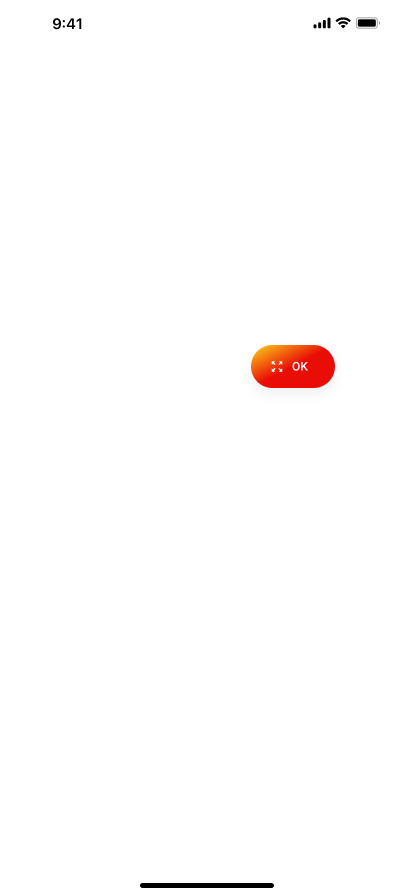Buttons: (236, 336, 350, 409)
Home Indicator: (0, 862, 414, 896)
Status Bar: (0, 0, 414, 44)
